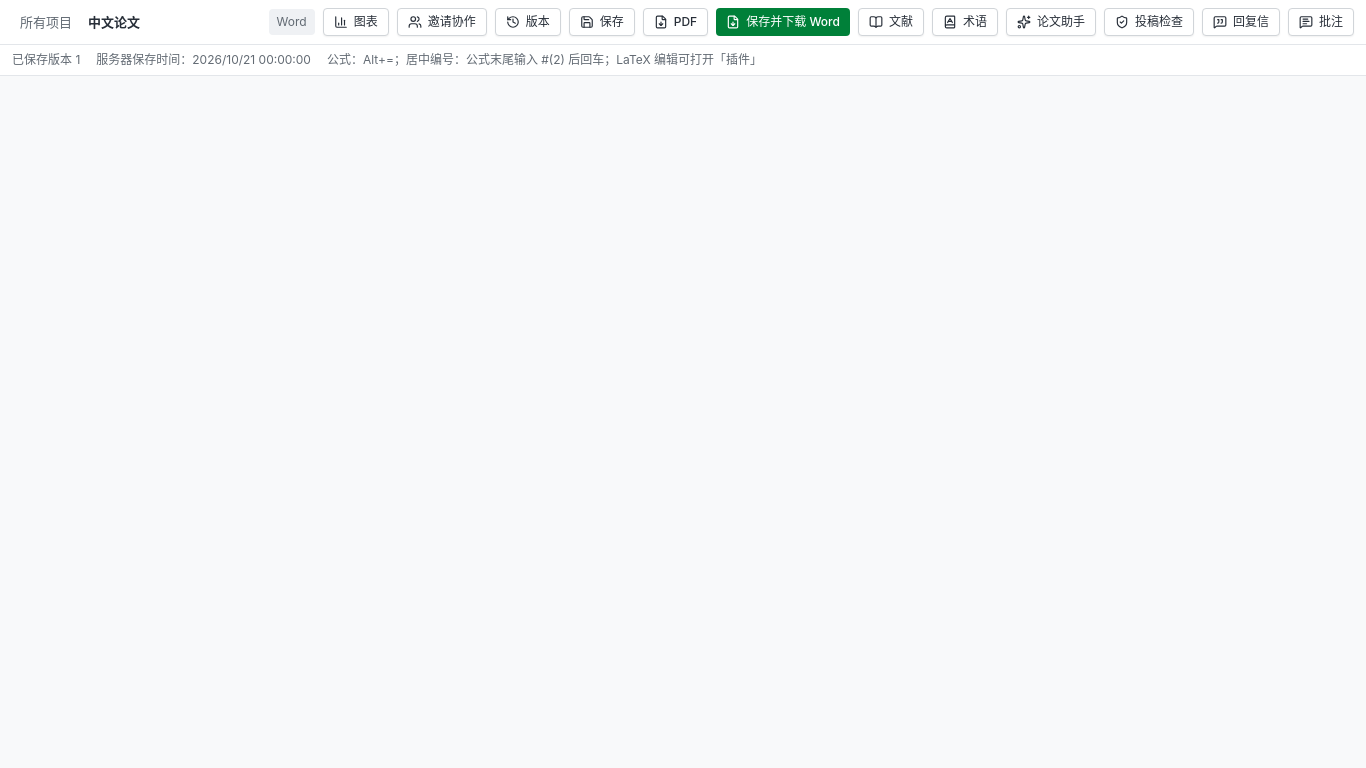
Test: Word 文献面板「按出现顺序重排引用」（P1-0-B） › 409 冲突展示错误并刷新服务器快照，不重载编辑器
Click the button "文献". click: point(891, 22)
box: x1=858 y1=8 x2=924 y2=36
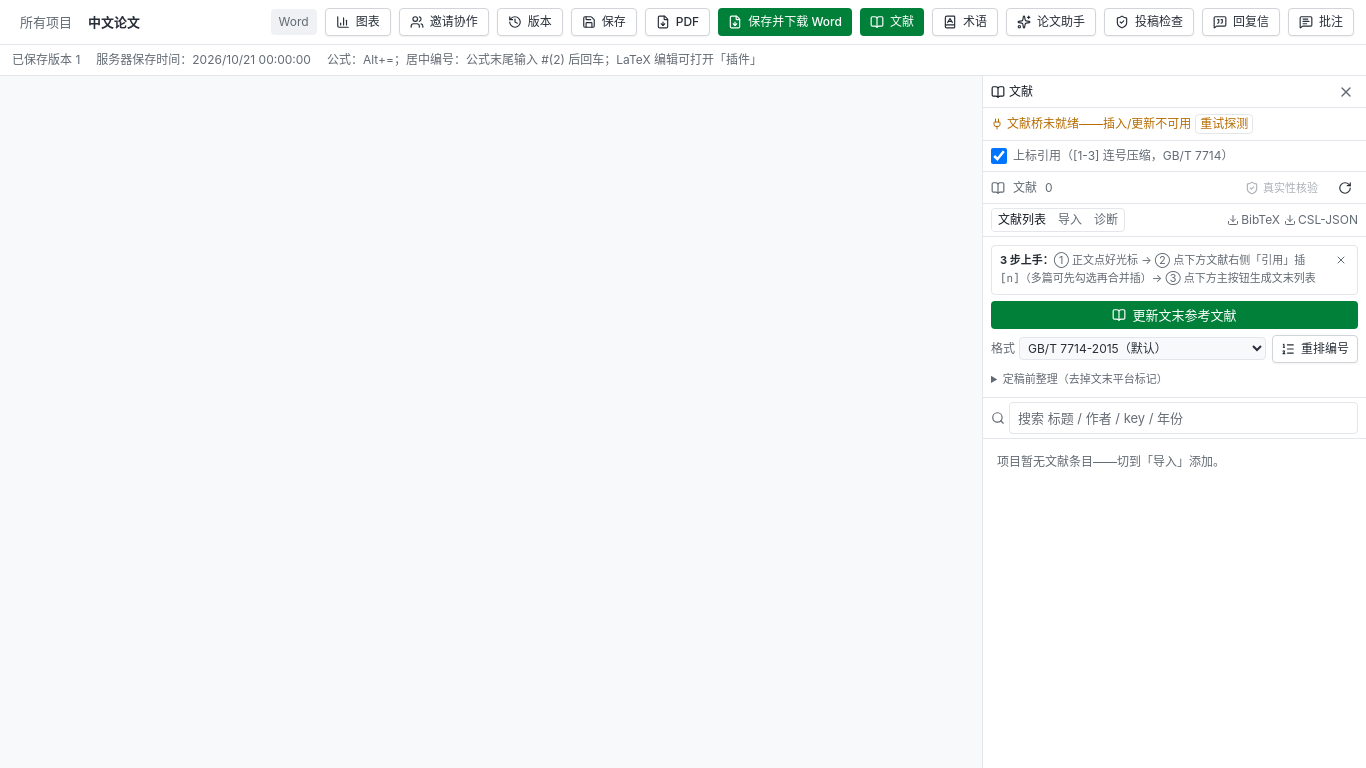
Click the button with test id "library-renumber-citations". click: point(1315, 349)
box: x1=1272 y1=335 x2=1358 y2=363
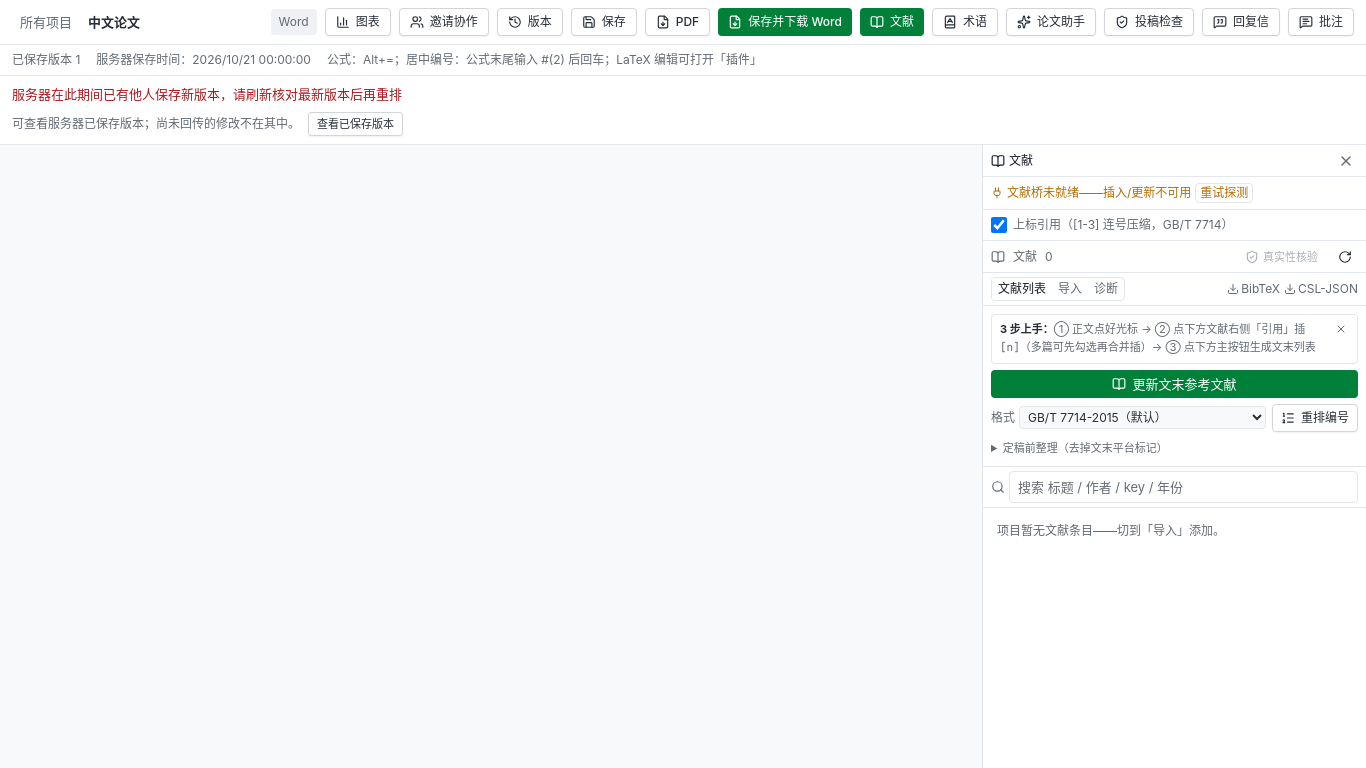
Now the text "他人保存新版本" is shown, box x1=12 y1=86 x2=402 y2=102
